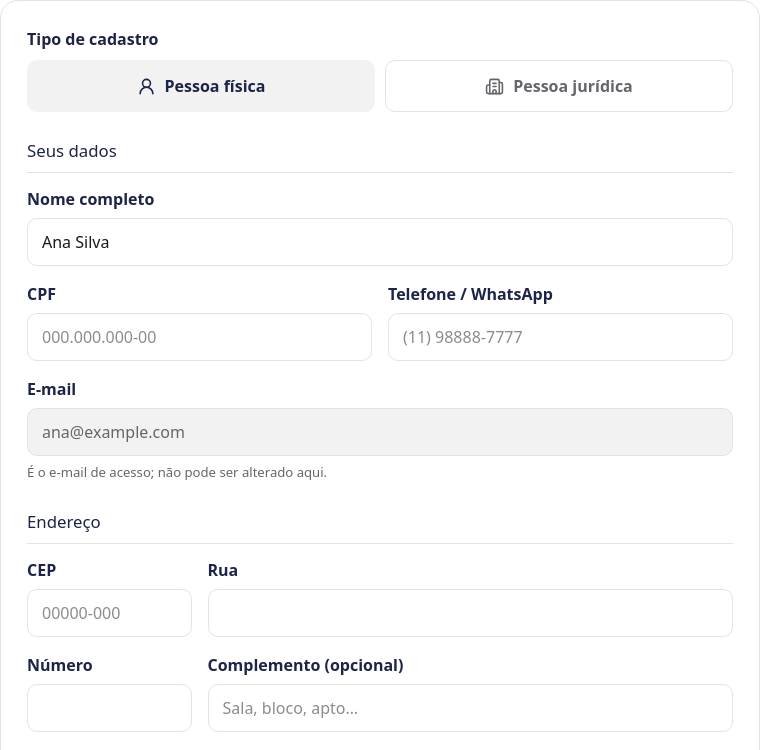
cadastro completo na Minha conta › formata CPF e CNPJ enquanto digita
Type "52998224725" into the field labelled "CPF" at (200, 337), box [27,313,372,361]
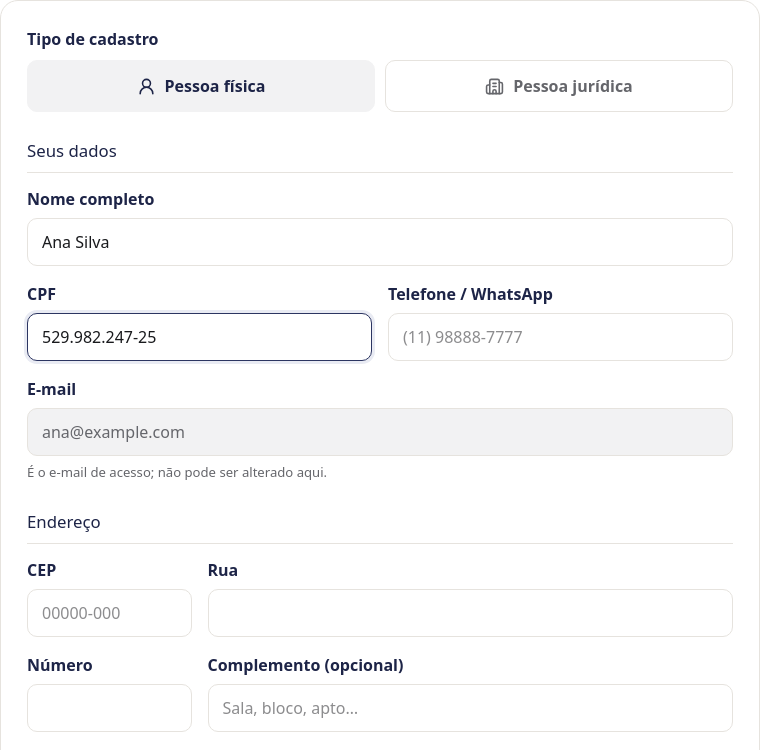
Expected: the field labelled "CPF" holds "529.982.247-25", [27,313,372,361]
Click the radio button labelled "Pessoa jurídica" at (559, 86), box [385,60,733,112]
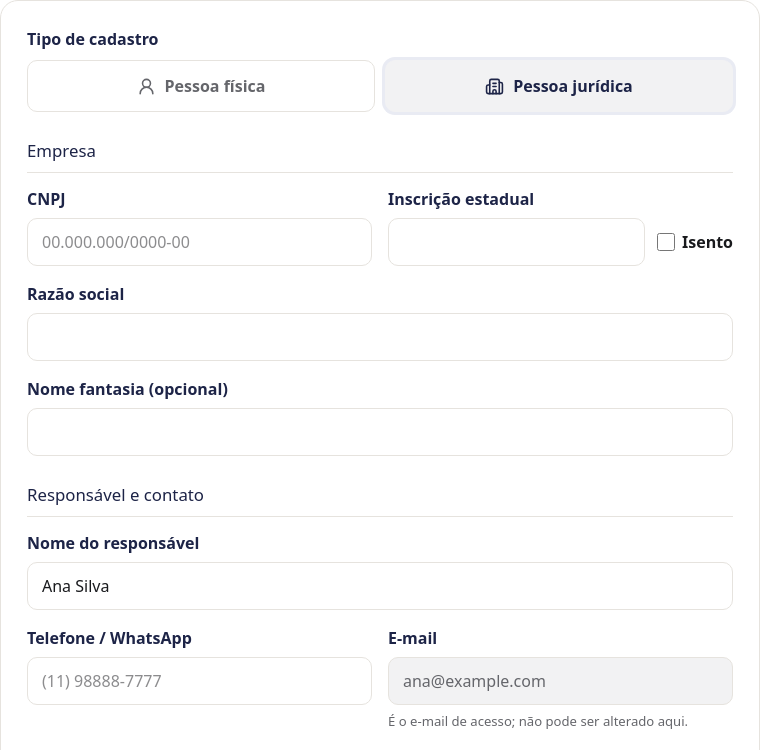
Type "11222333000181" into the field labelled "CNPJ" at (200, 242), box [27,218,372,266]
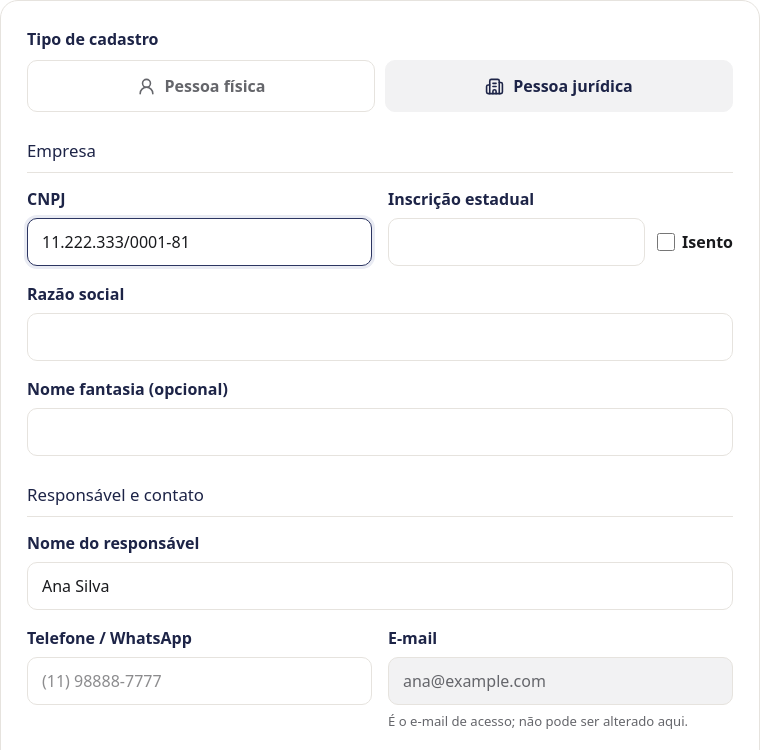
Expected: the field labelled "CNPJ" holds "11.222.333/0001-81", [27,218,372,266]
